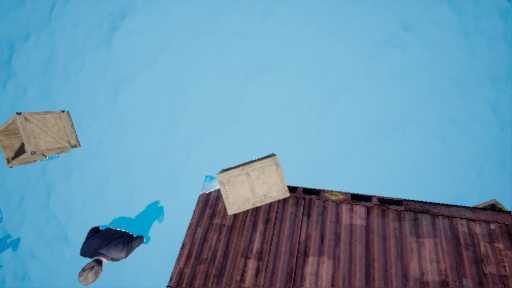person: (71, 198, 170, 285)
